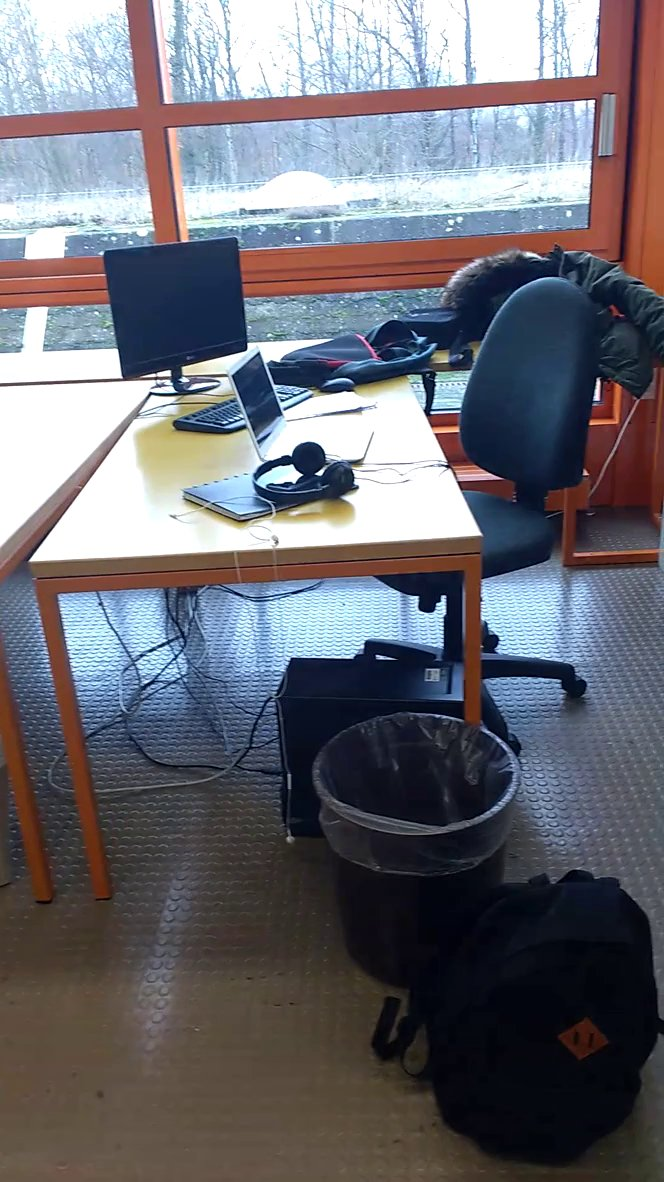bag: (368, 850, 664, 1173)
bin: (314, 695, 534, 987)
chair: (408, 272, 604, 658)
laptop: (210, 340, 399, 470)
